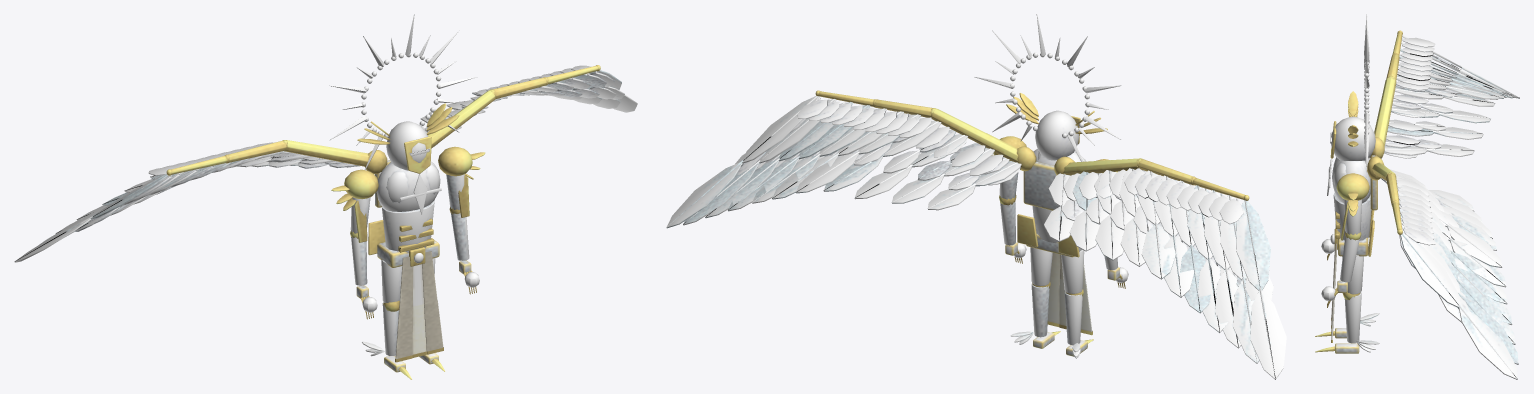
The model's file is Seraph.glb.
3 renders of one model, left to right at view 1: azimuth 30°, elevation 25°; view 2: azimuth 150°, elevation 25°; view 3: azimuth 270°, elevation 25°, orthographic. The views are drawn at different scales.
Visible parts, largest first — view 1: Seraph_spine, Seraph_head, Seraph_halo, Seraph_upperArmL, Seraph_upperArmR, Seraph_hips, Seraph_wingR1, Seraph_lowerArmR, Seraph_lowerArmL, Seraph_wingL1, Seraph_upperLegR, Seraph_tabardA2 (+11 smaller); view 2: Seraph_wingL1, Seraph_spine, Seraph_head, Seraph_halo, Seraph_wingRF11b, Seraph_wingRF11a, Seraph_wingR1, Seraph_wingR2, Seraph_wingL2, Seraph_wingR3, Seraph_wingL3, Seraph_wingLF11b (+41 smaller); view 3: Seraph_spine, Seraph_head, Seraph_wingR1, Seraph_wingLF11b, Seraph_wingLF11a, Seraph_upperArmL, Seraph_wingL3, Seraph_wingL2, Seraph_wingR2, Seraph_wingR3, Seraph_wingLF5b, Seraph_lowerLegL (+38 smaller).
Part boxes in pixels (x1,y1,x2,y2): Seraph_spine: (364,150,441,252); Seraph_head: (357,103,459,173); Seraph_halo: (330,14,476,169); Seraph_upperArmL: (438,146,485,214); Seraph_upperArmR: (331,169,378,238); Seraph_hips: (368,220,439,267); Seraph_wingR1: (279,140,368,167); Seraph_lowerArmR: (351,200,367,285); Seraph_lowerArmL: (451,175,469,260); Seraph_wingL1: (427,89,495,148); Seraph_upperLegR: (381,259,402,311); Seraph_tabardA2: (395,307,412,362); Seraph_wingL1: (916,108,1021,185); Seraph_spine: (1015,146,1086,243); Seraph_head: (1006,93,1107,160); Seraph_halo: (974,14,1121,161); Seraph_wingRF11b: (1250,288,1286,379); Seraph_wingRF11a: (1236,200,1270,290); Seraph_wingR1: (1048,158,1143,201); Seraph_wingR2: (1124,159,1195,208); Seraph_wingL2: (853,99,932,137); Seraph_wingR3: (1177,178,1249,224); Seraph_wingL3: (797,90,874,126); Seraph_wingLF11b: (666,160,743,228); Seraph_spine: (1327,137,1384,240); Seraph_head: (1330,91,1375,160); Seraph_wingR1: (1374,76,1428,158); Seraph_wingLF11b: (1458,305,1517,379); Seraph_wingLF11a: (1400,233,1460,307); Seraph_upperArmL: (1336,173,1369,240); Seraph_wingL3: (1392,202,1435,245); Seraph_wingL2: (1386,173,1432,218); Seraph_wingR2: (1386,53,1432,90); Seraph_wingR3: (1392,30,1435,66); Seraph_wingLF5b: (1447,224,1501,267); Seraph_lowerLegL: (1344,292,1379,352).
Size of the model in its own units: 8.88 by 4.69 by 2.7.
1 material, 1 textured.
